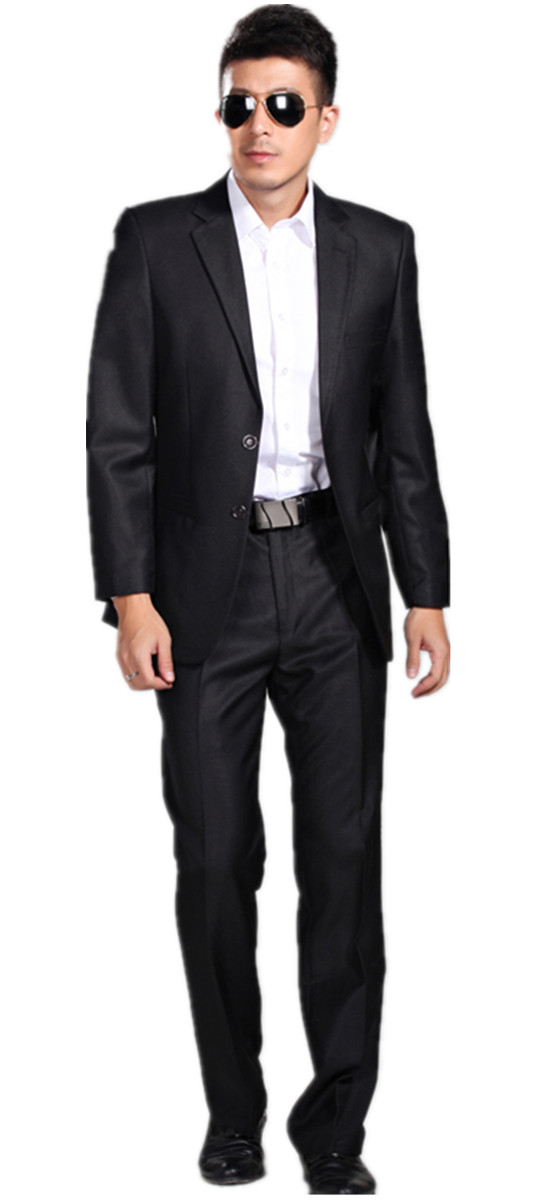feet: (173, 1060, 384, 1200)
